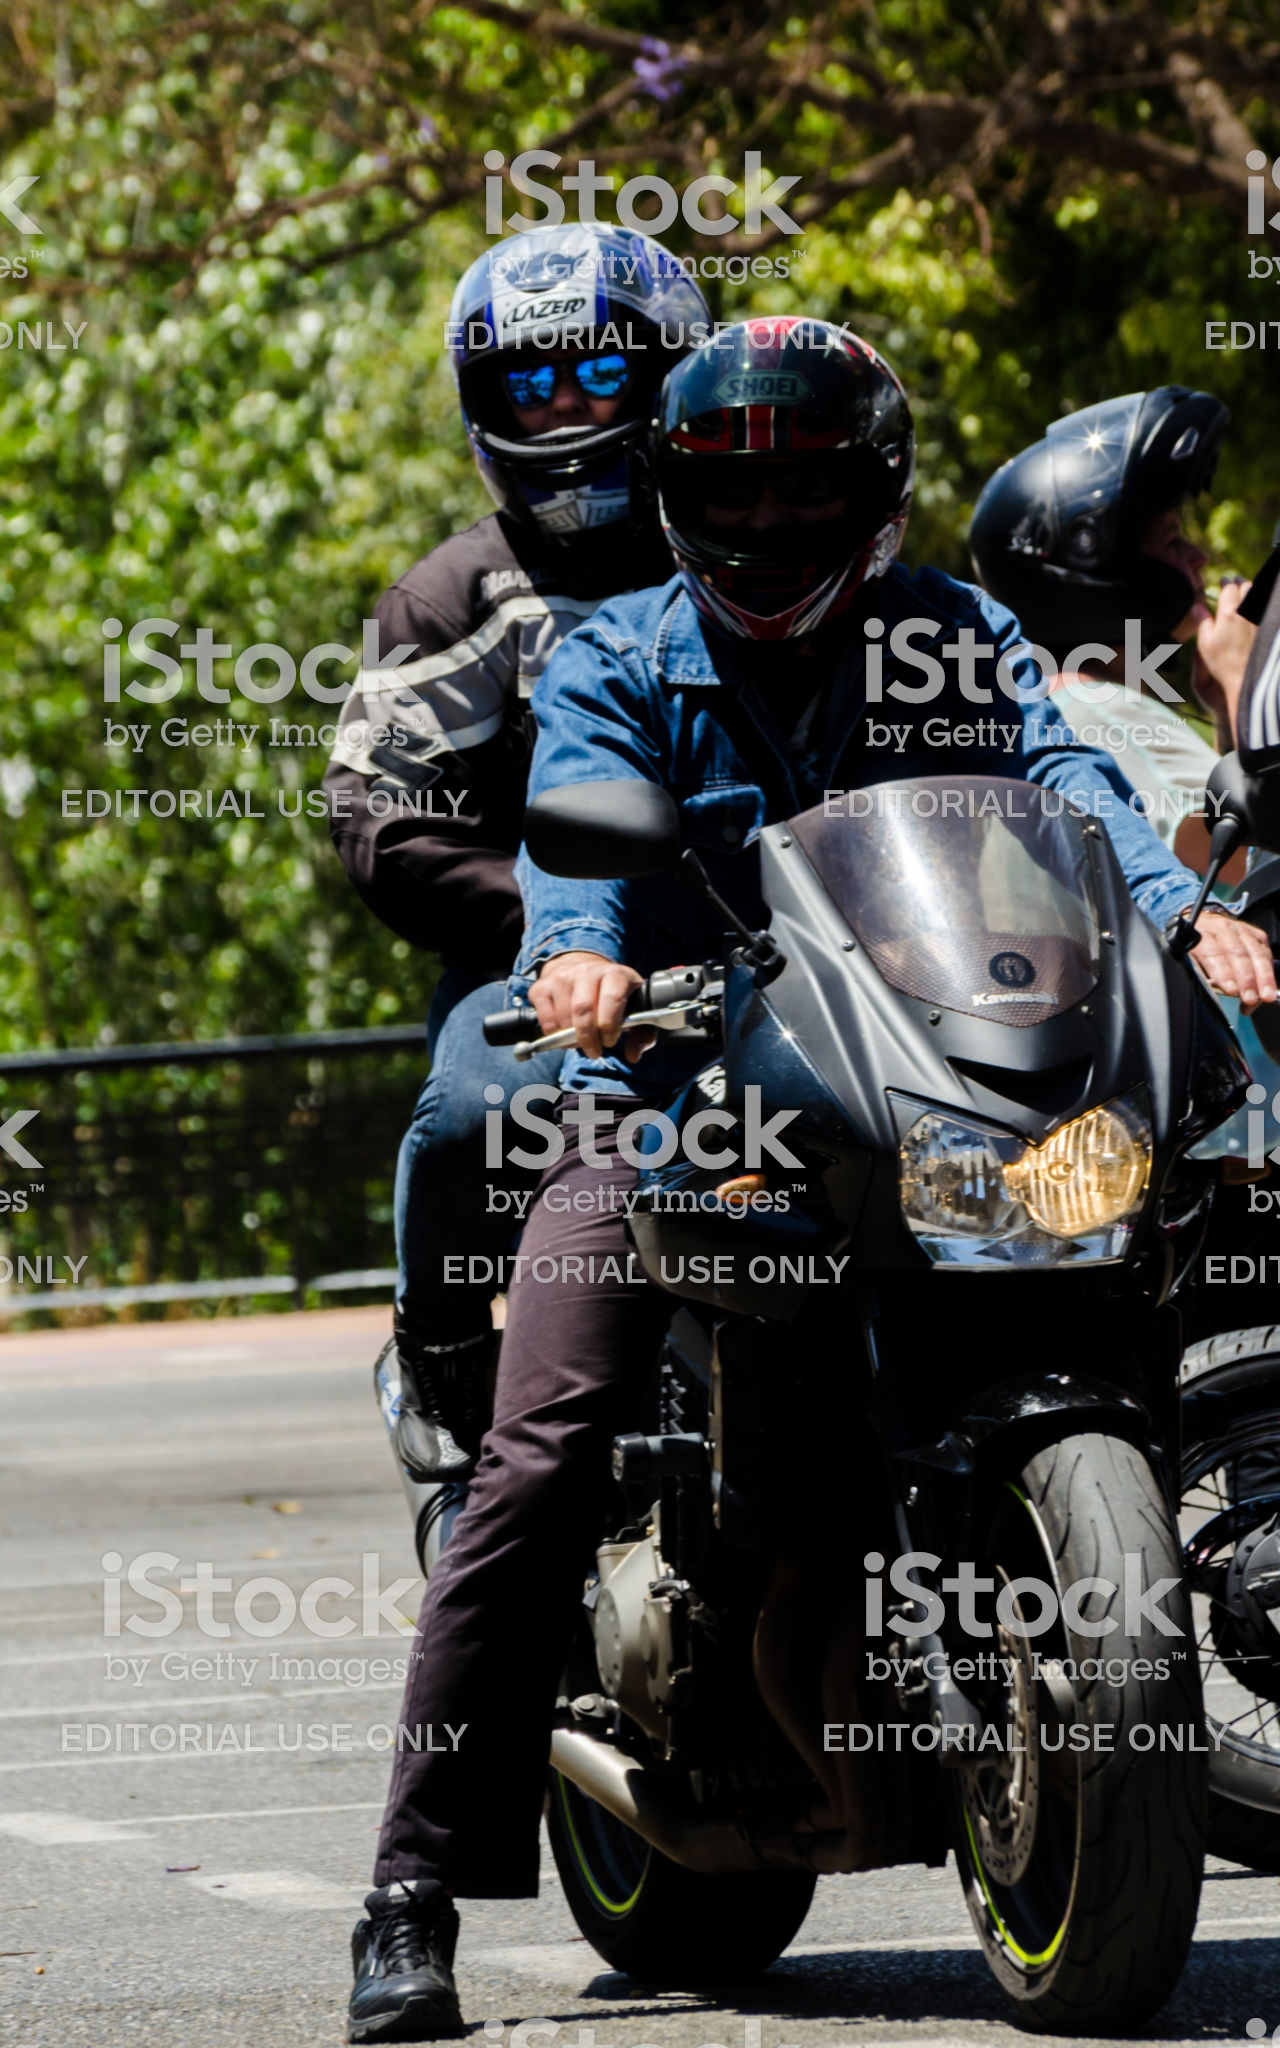helmet: (639, 316, 942, 675), (434, 223, 708, 531)
